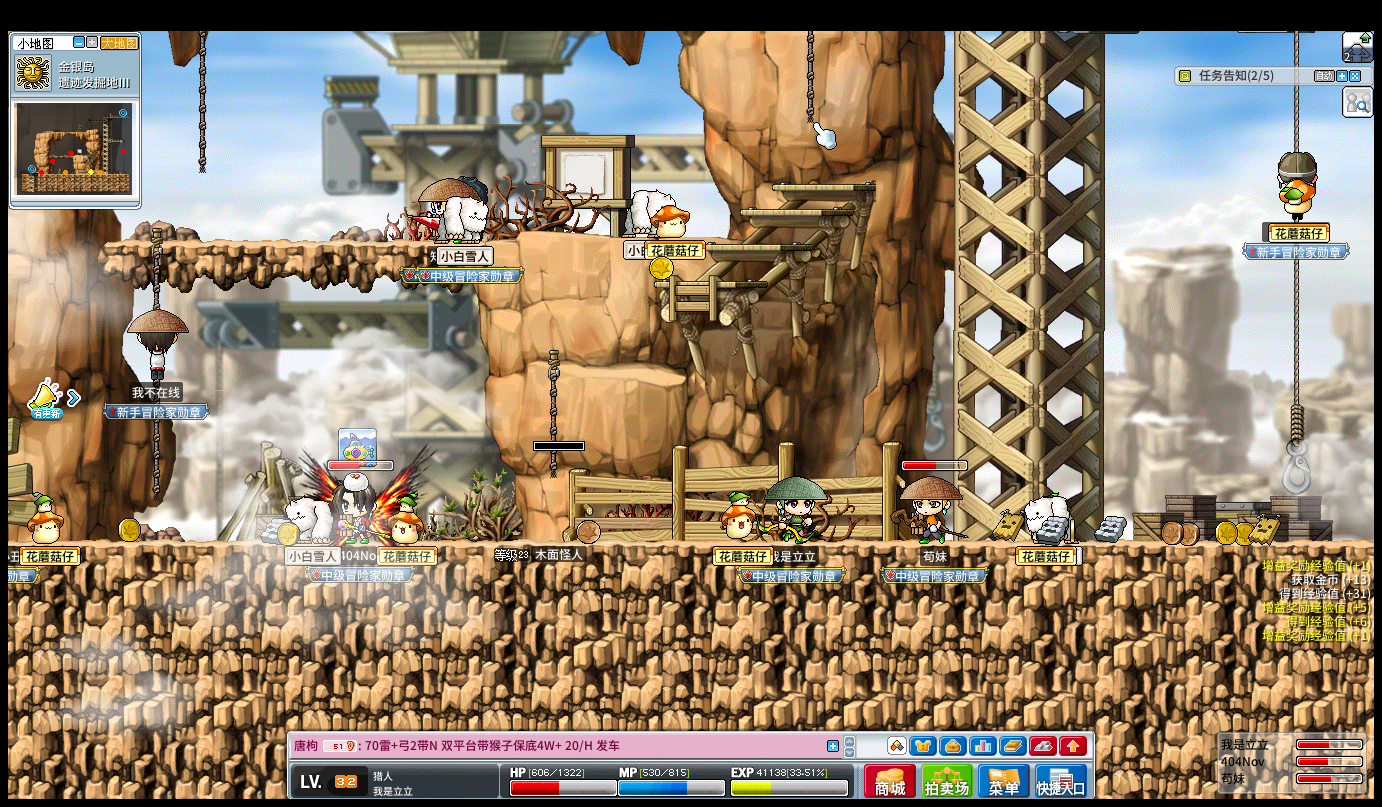floor: (105, 239, 478, 249), (577, 364, 689, 385), (649, 280, 767, 288), (737, 207, 852, 215), (700, 242, 810, 250), (770, 184, 877, 191)
rope: (1292, 256, 1302, 405), (198, 31, 207, 173), (547, 349, 561, 434), (805, 29, 814, 124), (1292, 30, 1299, 148), (152, 227, 162, 307), (152, 420, 160, 503)
